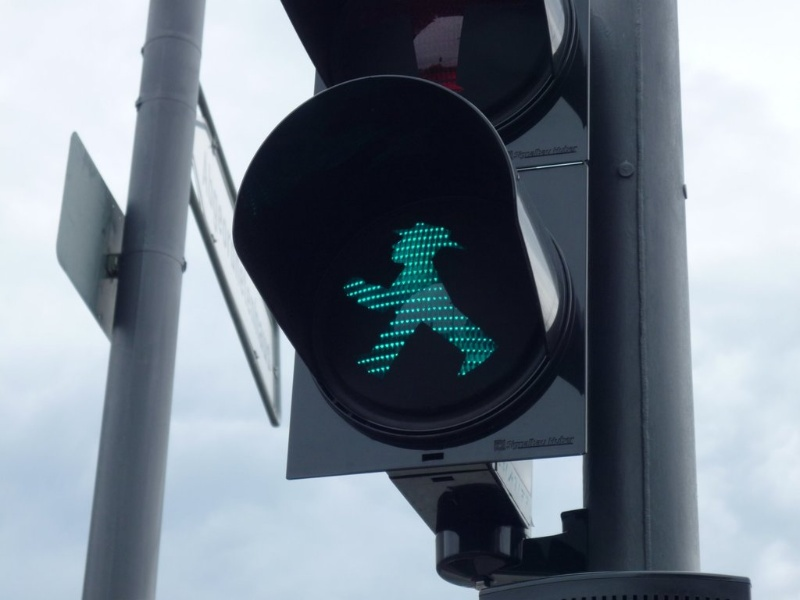pedestrian_crossing_green: (333, 205, 502, 396)
